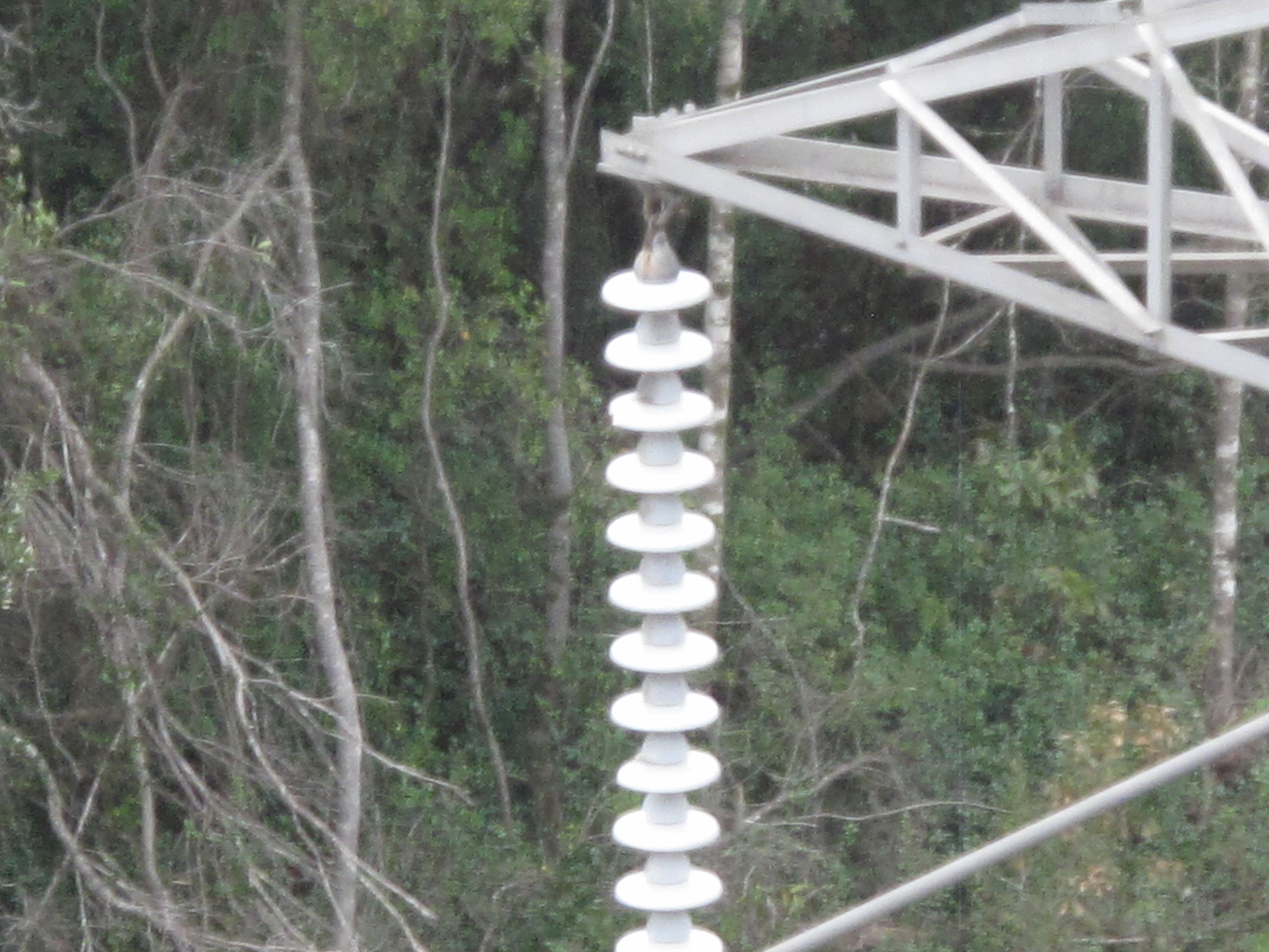damaged: (604, 398, 633, 432)
insulator: (598, 266, 725, 952)
